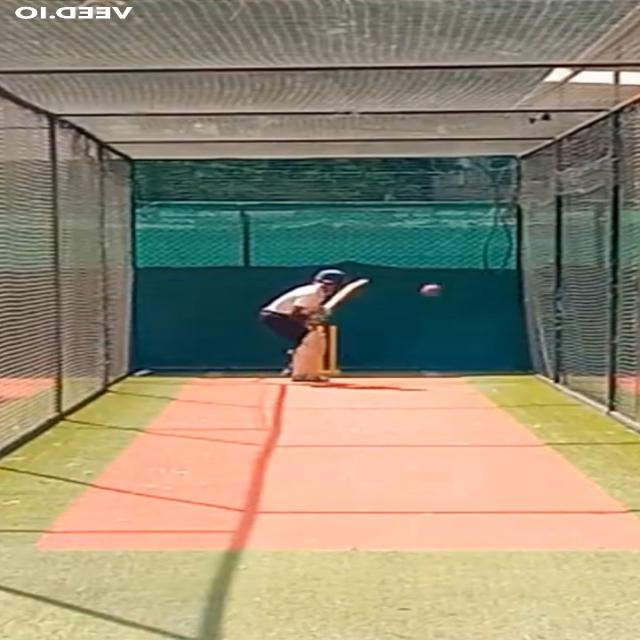ball: (419, 284, 444, 298)
stump: (314, 324, 341, 374)
